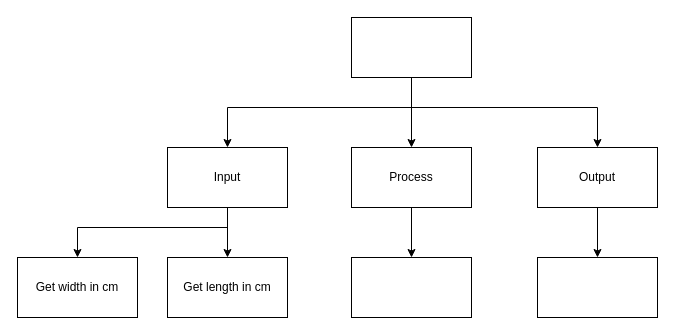
This 675x335 diagram has some shape labels left out. The shapes that lost their labels are listed below. From the top down, each one's centre as x and y in pixels, then its label:
the point at 411,47: Surface area of a cube
the point at 411,287: Calculate surface area = length x width x 6
the point at 597,287: Print surface area in cm 2
